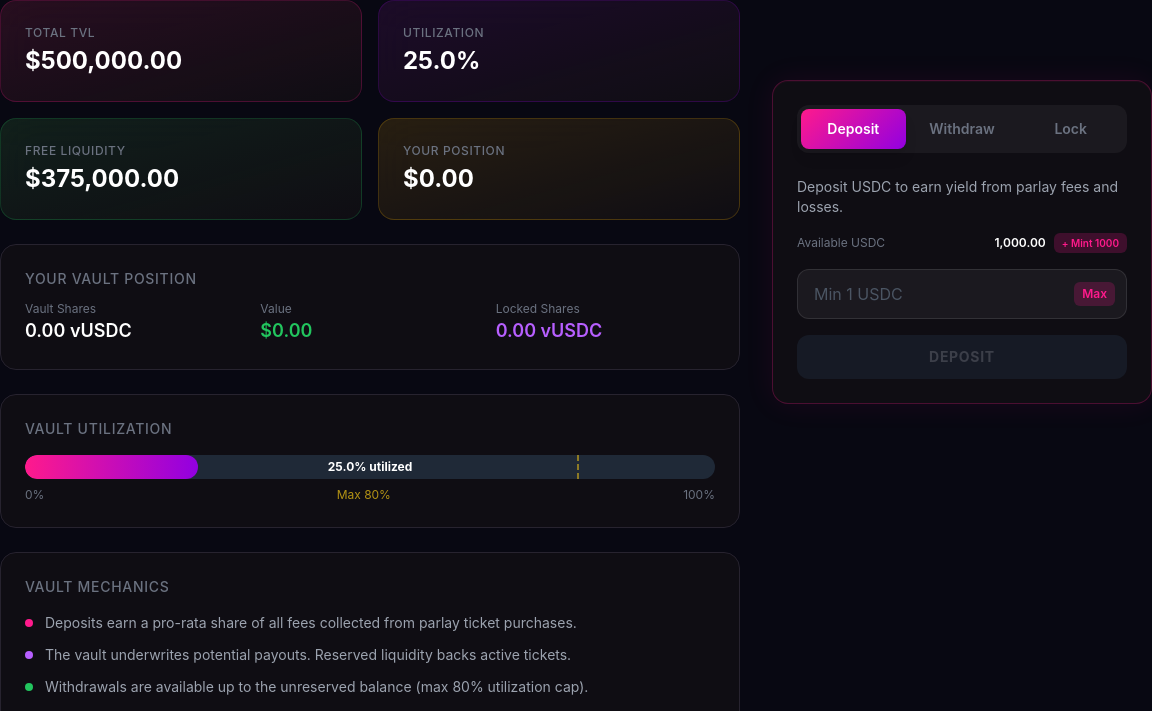
Test: VaultDashboard › deposit minimum guard › shows 'Minimum deposit is 1 USDC' for 0.5 USDC
The image size is (1152, 711).
Type "0.5" into the field with placeholder "Min 1 USDC" at (962, 294), box left=797, top=269, right=1127, bottom=319
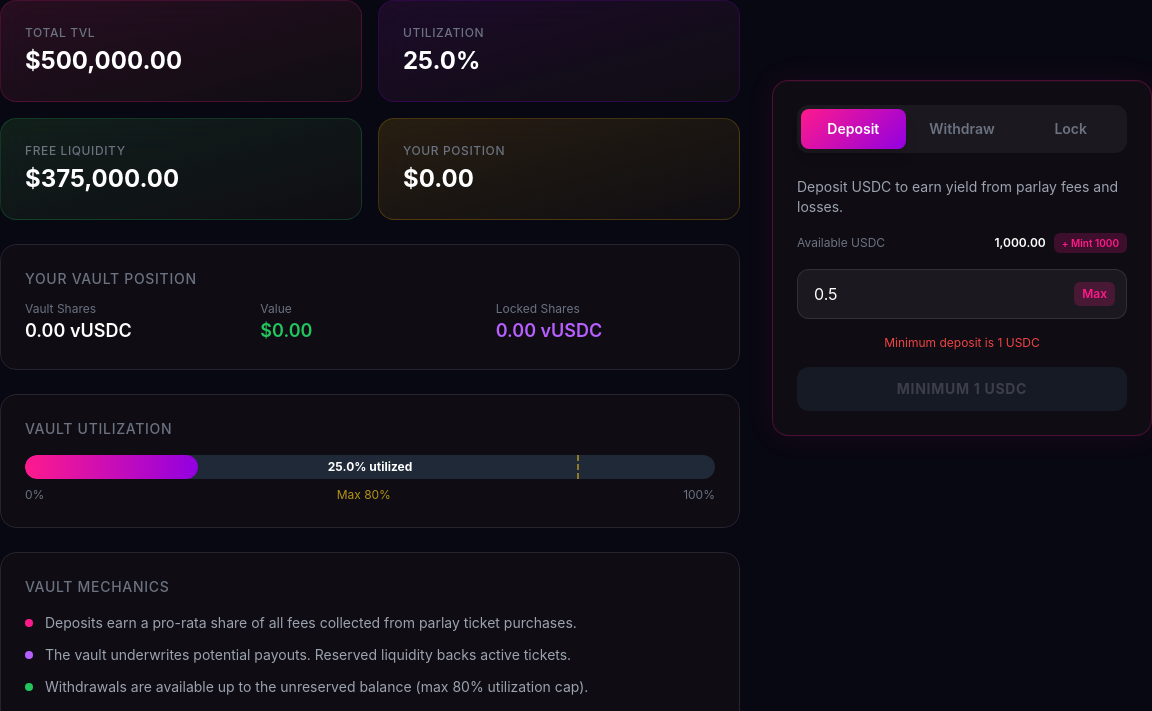
Now the text "Minimum deposit is 1 USDC" is shown, box left=884, top=335, right=1040, bottom=350
